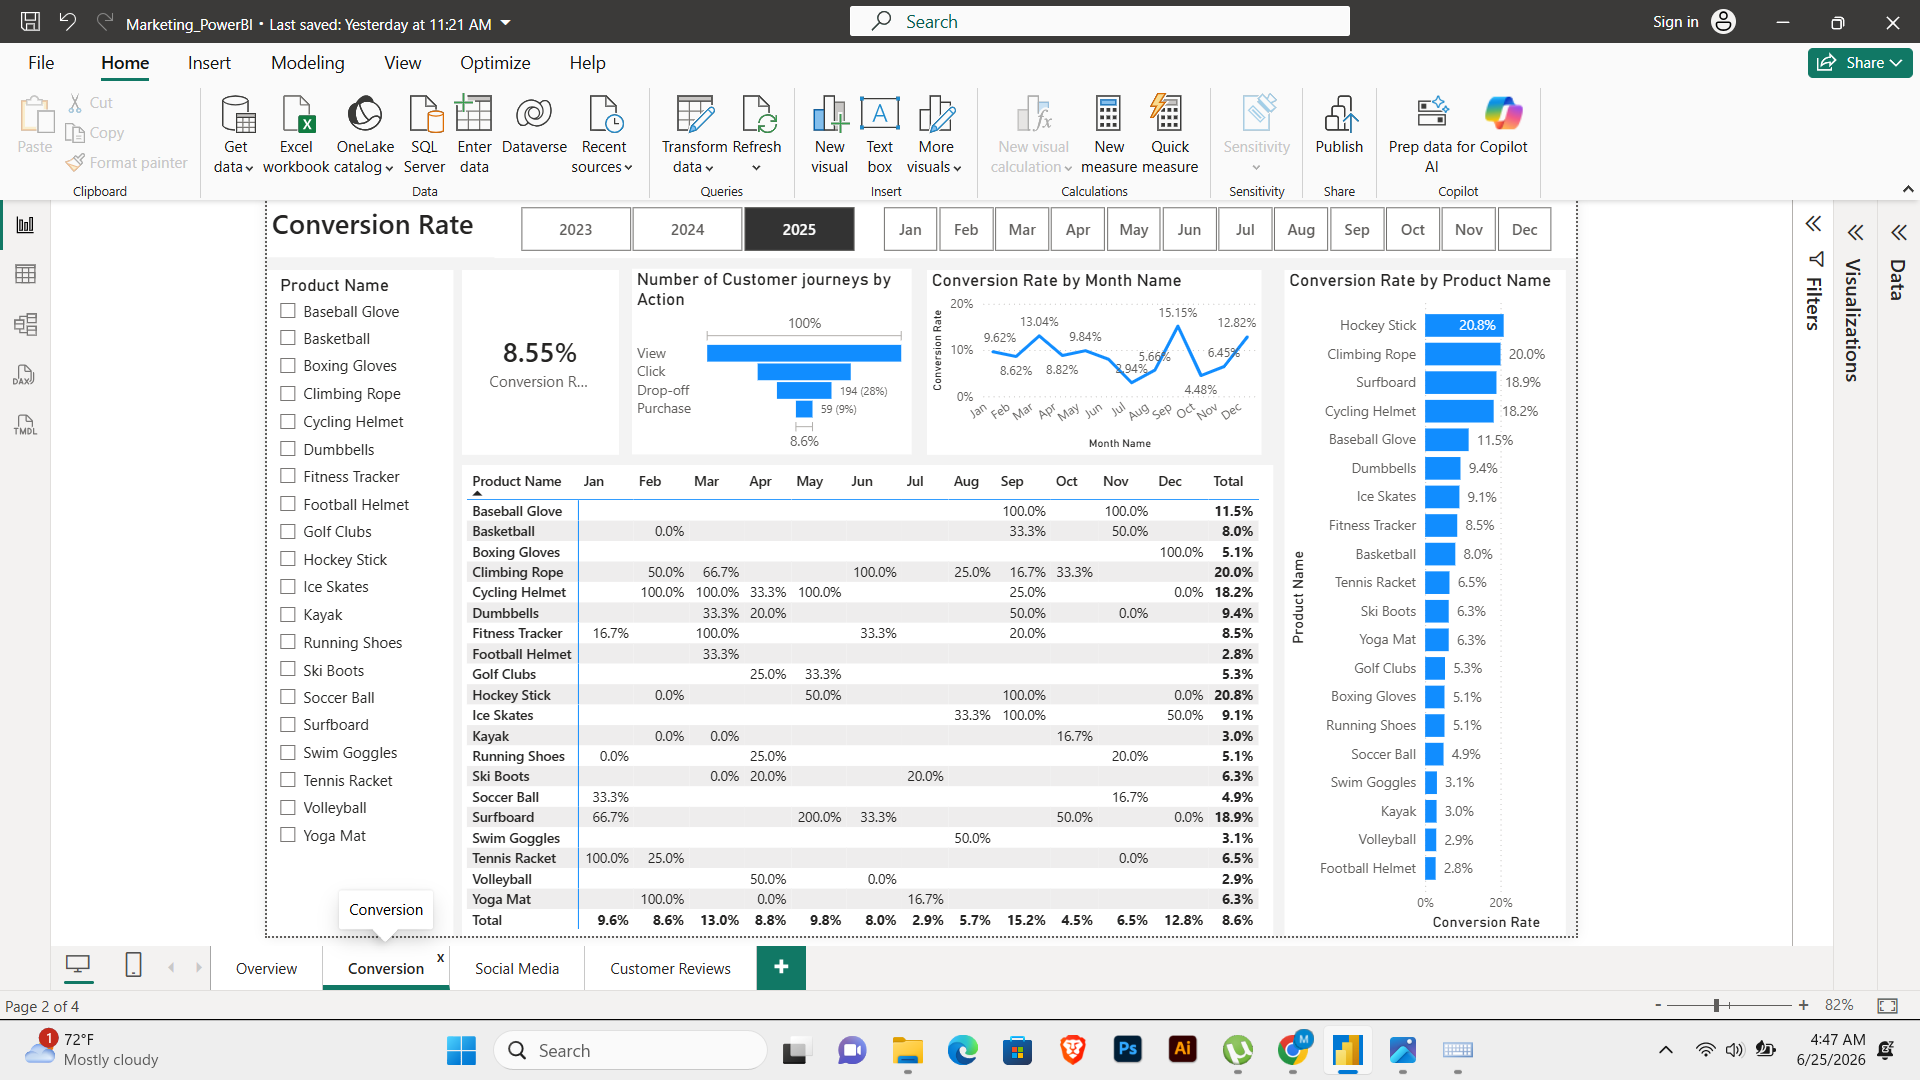

What the dashboard file says about the page in this screenshot:
{"tool":"powerbi","page":{"name":"Conversion","canvas":[1280,720],"ordinal":1},"visuals":[{"type":"textbox","box":[0,0,1280.3,56.3],"z":0},{"type":"slicer","fields":{"Values":["dim_products.ProductName"]},"box":[0,68.5,182.2,651.8],"z":1000},{"type":"slicer","fields":{"Values":["Calendar.Year"]},"box":[222.4,0,376,56.6],"z":2000},{"type":"slicer","fields":{"Values":["Calendar.MonthNameShort"]},"box":[576.8,0,703.5,56.6],"z":3000},{"type":"cardVisual","fields":{"Data":["_Calculations.Conversion Rate"]},"box":[191.4,68.7,153.6,180.6],"z":4000},{"type":"lineChart","fields":{"Y":["_Calculations.Conversion Rate"],"Category":["Calendar.MonthNameShort"]},"box":[645.5,68.7,327.5,180.6],"z":5000},{"type":"clusteredBarChart","fields":{"Category":["dim_products.ProductName"],"Y":["_Calculations.Conversion Rate"]},"box":[995.9,68.7,274.9,650.9],"z":6000},{"type":"pivotTable","fields":{"Values":["_Calculations.Conversion Rate"],"Rows":["dim_products.ProductName"],"Columns":["Calendar.MonthNameShort"]},"box":[191.4,258.8,793.8,460.9],"z":7000},{"type":"funnel","fields":{"Y":["_Calculations.Number of Customer journeys"],"Category":["fact_customer_journey.Action"]},"box":[357.1,67.4,273.6,181.9],"z":8000}]}

Visuals, with their boxes on the page's 1280x720 design canvas (x1, y1, x2, y2). These are canvas units, not pixel positions in the 1920x1080 screenshot, which may show the page scaled, cropped or inside an application window:
textbox: detection(0, 0, 1280, 56)
slicer - dim_products.ProductName: detection(0, 68, 182, 720)
slicer - Calendar.Year: detection(222, 0, 598, 57)
slicer - Calendar.MonthNameShort: detection(577, 0, 1280, 57)
cardVisual - _Calculations.Conversion Rate: detection(191, 69, 345, 249)
lineChart - _Calculations.Conversion Rate x Calendar.MonthNameShort: detection(646, 69, 973, 249)
clusteredBarChart - dim_products.ProductName x _Calculations.Conversion Rate: detection(996, 69, 1271, 720)
pivotTable - _Calculations.Conversion Rate x dim_products.ProductName: detection(191, 259, 985, 720)
funnel - _Calculations.Number of Customer journeys x fact_customer_journey.Action: detection(357, 67, 631, 249)
